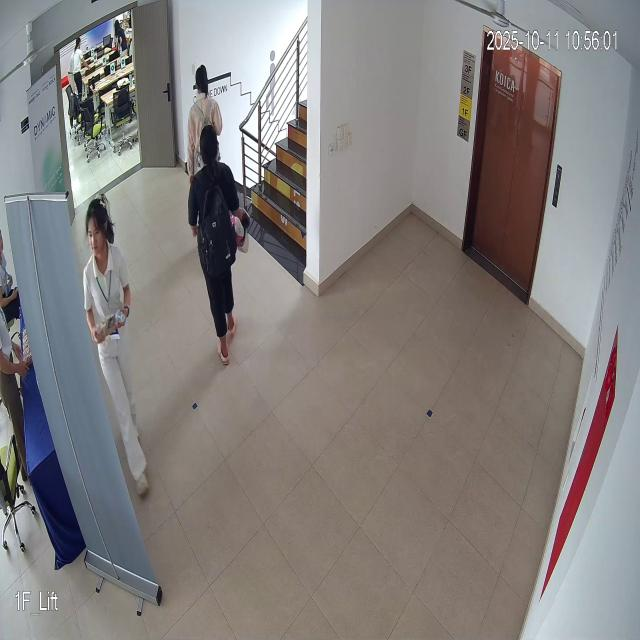face: (82, 194, 116, 262)
